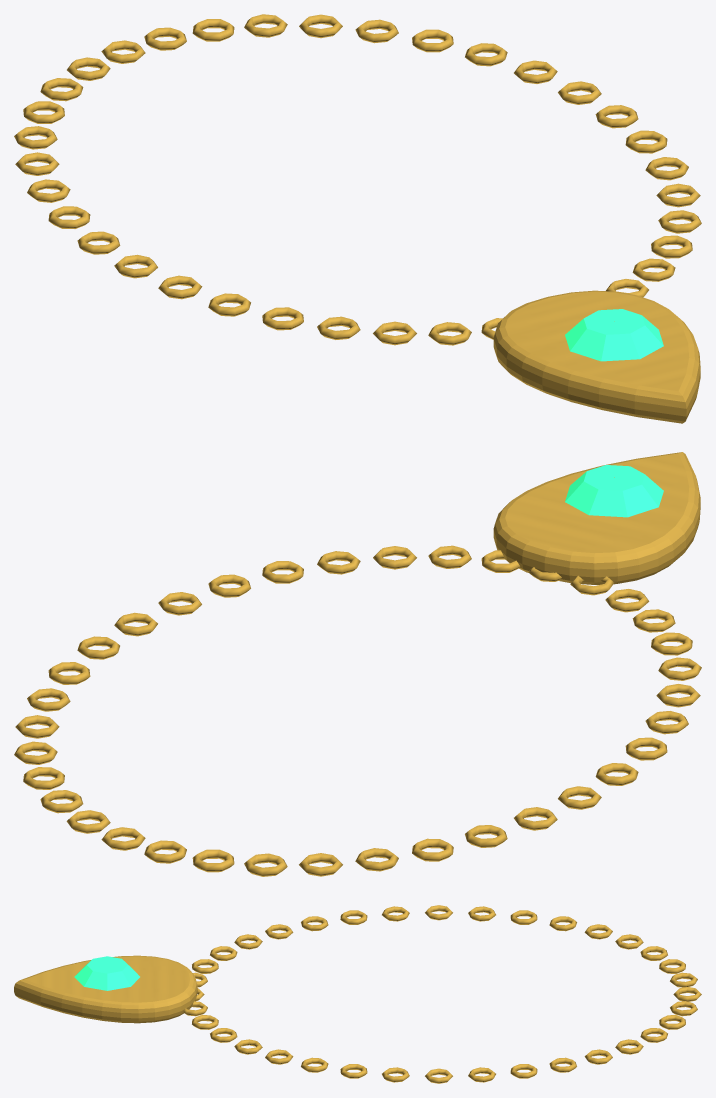
The model's file is amulet.glb.
3 views of the same model, one above another, from view 1: azimuth 30°, elevation 25°; view 2: azimuth 150°, elevation 25°; view 3: azimuth 270°, elevation 25° (orthographic). The views are drawn at different scales.
Visible parts, largest first — view 1: amulet; view 2: amulet; view 3: amulet.
Part boxes in pixels (bbox=[...]): amulet: bbox=[14, 14, 701, 423]; amulet: bbox=[14, 452, 701, 876]; amulet: bbox=[14, 905, 701, 1083].
Bounding box in the file's own units: 0.1504 × 0.0138 × 0.249.
2 materials, 1 textured.
